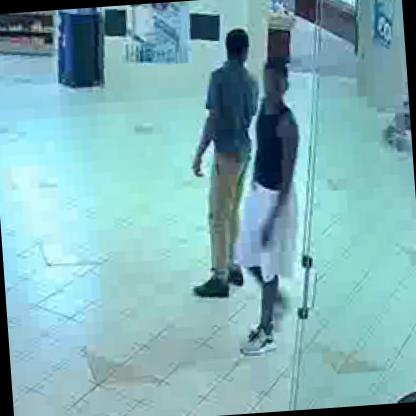Human Body: (226, 57, 306, 356), (184, 26, 260, 296)
